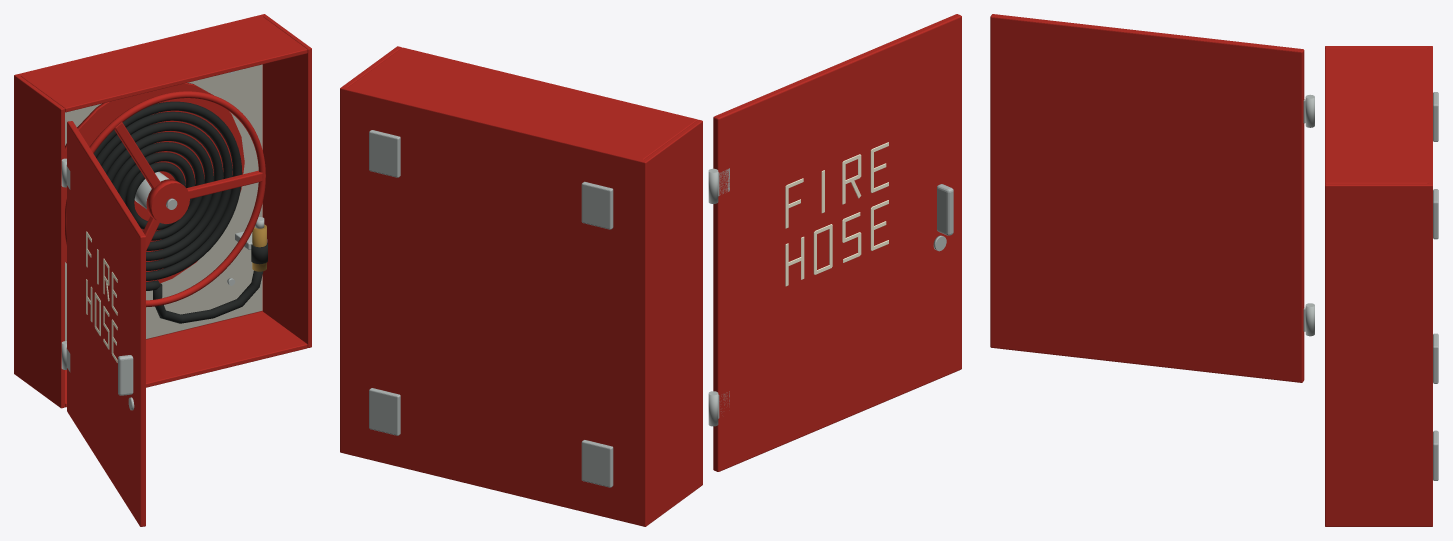
3 renders of one model, left to right at view 1: azimuth 30°, elevation 25°; view 2: azimuth 150°, elevation 25°; view 3: azimuth 270°, elevation 25°, orthographic. The views are drawn at different scales.
Parts seen in each view (by area): view 1: MODULE_MetalDoor, ENCLOSURE_Left, MODULE_CoiledHose, ENCLOSURE_Right, ENCLOSURE_Top, ENCLOSURE_InnerLining, ENCLOSURE_Bottom, REEL_BackPlate, REEL_FrontRim, REEL_FrontHub, MODULE_HoseTail, ENCLOSURE_Back (+5 smaller); view 2: ENCLOSURE_Back, MODULE_MetalDoor, ENCLOSURE_Left, ENCLOSURE_Top, HARDWARE_RearTab2, HARDWARE_RearTab0, HARDWARE_RearTab1, HARDWARE_RearTab3, HARDWARE_DoorPull; view 3: MODULE_MetalDoor, ENCLOSURE_Right, ENCLOSURE_Top, ENCLOSURE_Back.
Part boxes in pixels (box(x1,y1,x2,y2)): MODULE_MetalDoor: box(67, 121, 145, 526); ENCLOSURE_Left: box(15, 75, 64, 408); MODULE_CoiledHose: box(94, 101, 242, 290); ENCLOSURE_Right: box(263, 15, 311, 347); ENCLOSURE_Top: box(20, 16, 307, 112); ENCLOSURE_InnerLining: box(65, 64, 262, 340); ENCLOSURE_Bottom: box(65, 311, 307, 407); REEL_BackPlate: box(65, 83, 244, 283); REEL_FrontRim: box(65, 91, 265, 307); REEL_FrontHub: box(146, 179, 189, 223); MODULE_HoseTail: box(153, 270, 263, 323); ENCLOSURE_Back: box(14, 14, 265, 374); ENCLOSURE_Back: box(340, 86, 648, 526); MODULE_MetalDoor: box(713, 14, 961, 471); ENCLOSURE_Left: box(644, 119, 702, 524); ENCLOSURE_Top: box(347, 47, 697, 159); HARDWARE_RearTab2: box(581, 181, 613, 229); HARDWARE_RearTab0: box(581, 440, 613, 487); HARDWARE_RearTab1: box(369, 388, 400, 435); HARDWARE_RearTab3: box(369, 130, 400, 177); HARDWARE_DoorPull: box(937, 184, 953, 235); MODULE_MetalDoor: box(990, 14, 1304, 382); ENCLOSURE_Right: box(1325, 183, 1429, 526); ENCLOSURE_Top: box(1325, 48, 1429, 183); ENCLOSURE_Back: box(1428, 46, 1432, 526).
Bounding box in the file's own units: 0.9312 × 0.82 × 0.9747.
